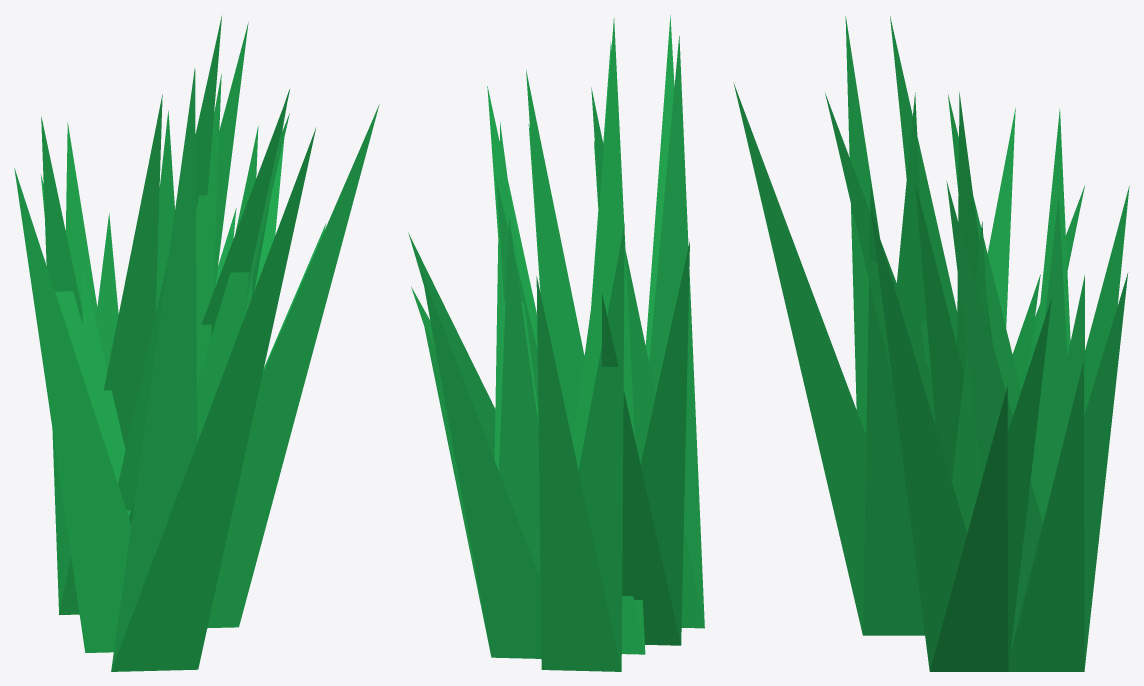
File: grass.fbx
3 renders of one model, left to right at view 1: azimuth 30°, elevation 25°; view 2: azimuth 150°, elevation 25°; view 3: azimuth 270°, elevation 25°, orthographic. The views are drawn at different scales.
Parts seen in each view (by area): view 1: Cube.022, Cube.016, Cube.021, Cube.015, Cube.007, Cube.001, Cube.006, Cube.019, Cube, Cube.017, Cube.020, Cube.003 (+7 smaller); view 2: Cube.004, Cube.011, Cube.006, Cube.016, Cube.021, Cube.009, Cube.003, Cube.018, Cube.019, Cube.007, Cube.001, Cube.008 (+5 smaller); view 3: Cube.022, Cube.015, Cube.020, Cube.010, Cube.013, Cube.008, Cube.009, Cube.011, Cube.012, Cube.002, Cube.021, Cube (+11 smaller).
Part boxes in pixels (x1,y1,x2,y2): Cube.022: [111, 127, 316, 671]; Cube.016: [14, 168, 131, 652]; Cube.021: [111, 68, 196, 670]; Cube.015: [207, 104, 379, 628]; Cube.007: [59, 94, 162, 614]; Cube.001: [118, 16, 221, 510]; Cube.006: [41, 116, 82, 614]; Cube.019: [196, 74, 221, 384]; Cube: [129, 90, 289, 524]; Cube.017: [82, 265, 130, 516]; Cube.020: [196, 272, 249, 442]; Cube.003: [213, 22, 248, 292]; Cube.004: [536, 276, 621, 671]; Cube.011: [421, 270, 541, 658]; Cube.006: [578, 224, 624, 670]; Cube.016: [640, 241, 689, 645]; Cube.021: [649, 36, 704, 627]; Cube.009: [499, 217, 540, 577]; Cube.003: [526, 70, 645, 654]; Cube.018: [601, 294, 680, 645]; Cube.019: [591, 87, 704, 628]; Cube.007: [572, 128, 617, 469]; Cube.001: [592, 18, 645, 652]; Cube.008: [494, 122, 538, 470]; Cube.022: [733, 83, 866, 634]; Cube.015: [870, 207, 967, 671]; Cube.020: [863, 181, 924, 635]; Cube.010: [1008, 362, 1084, 671]; Cube.013: [930, 386, 1008, 671]; Cube.008: [946, 181, 1042, 653]; Cube.009: [1030, 195, 1070, 522]; Cube.011: [1084, 272, 1128, 668]; Cube.012: [1007, 297, 1051, 668]; Cube.002: [915, 182, 964, 480]; Cube.021: [845, 16, 880, 434]; Cube: [825, 93, 935, 425].
Bounding box in the file's own units: 45.57 × 89.94 × 50.5.
